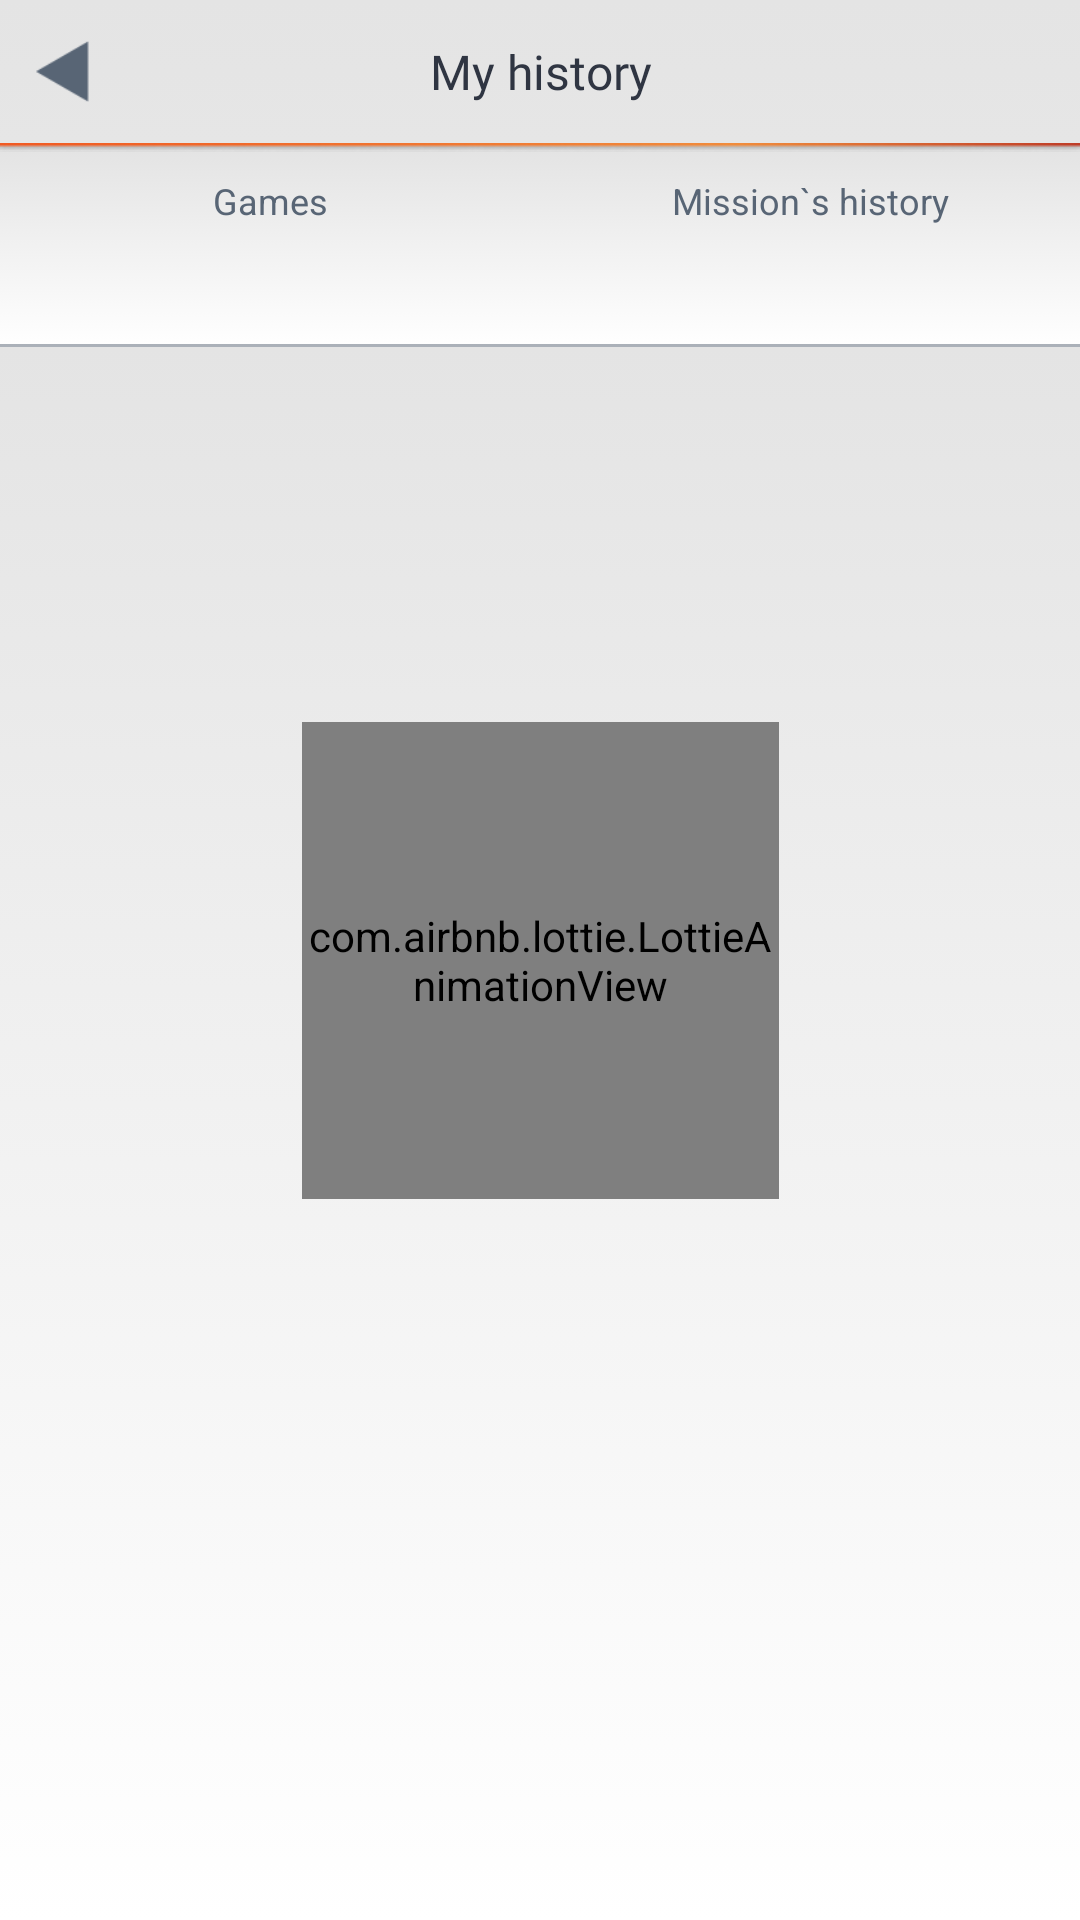

Point at icon controls on the screen. Image size 1080px×1920px, points as [x,y].
setting back: [62,71]
